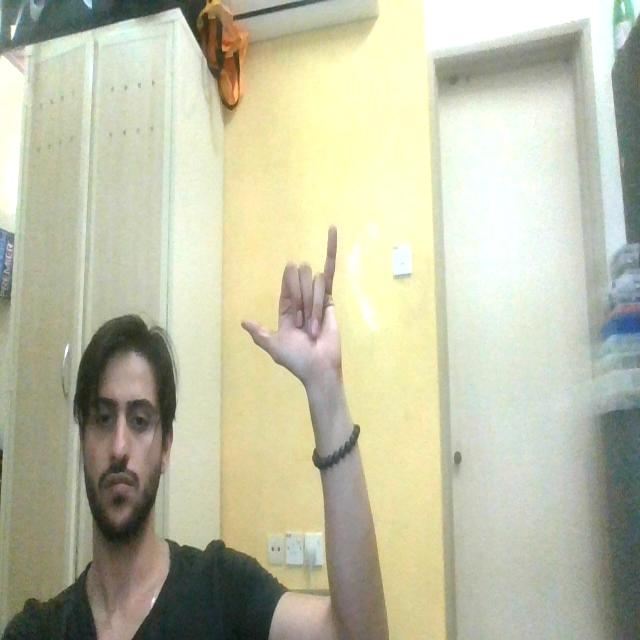shaka: (237, 215, 361, 402)
